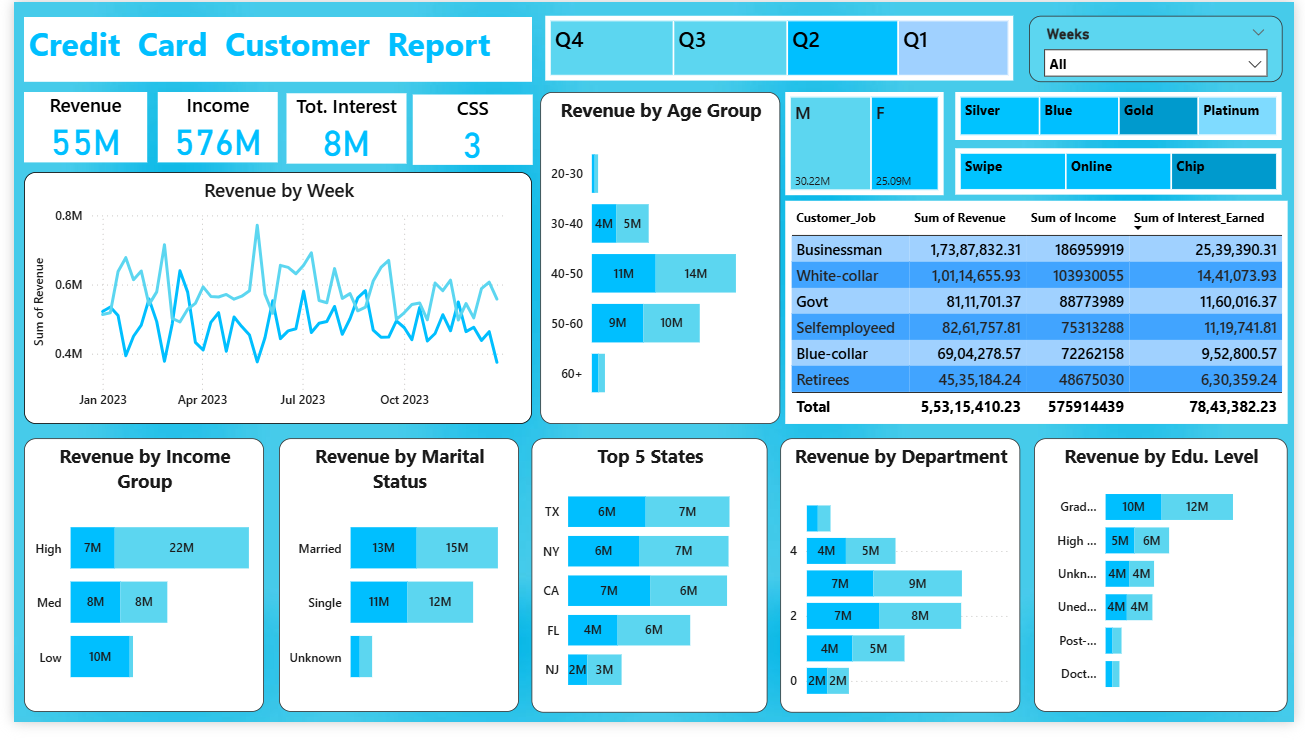

The page's visual inventory and layout, read from the dashboard file:
{"tool":"powerbi","page":{"name":"Page 3","canvas":[1280,720],"ordinal":2},"visuals":[{"type":"textbox","box":[10,15,508.3,65],"z":0},{"type":"barChart","title":" Revenue by Income Group","fields":{"Y":["Sum(ccdb cc_detail.Revenue)"],"Category":["ccdb cust_detail.income group"],"Series":["ccdb cust_detail.Gender"]},"box":[10,436.7,240,273.3],"z":1000},{"type":"tableEx","fields":{"Values":["ccdb cust_detail.Customer_Job","Sum(ccdb cc_detail.Revenue)","Sum(ccdb cust_detail.Income)","Sum(ccdb cc_detail.Interest_Earned)"]},"box":[771.7,198.3,502,223.3],"z":2000},{"type":"card","title":"Tot. Interest ","fields":{"Values":["Sum(ccdb cc_detail.Interest_Earned)"]},"box":[272.9,91.4,120,70],"z":3000},{"type":"card","title":"Revenue","fields":{"Values":["Sum(ccdb cc_detail.Revenue)"]},"box":[10,90,122.9,70],"z":4000},{"type":"card","title":"Income","fields":{"Values":["Sum(ccdb cust_detail.Income)"]},"box":[144.3,90,120,70],"z":5000},{"type":"card","title":"CSS","fields":{"Values":["Avg(ccdb cust_detail.Cust_Satisfaction_Score)"]},"box":[398.6,92.9,120,70],"z":6000},{"type":"slicer","fields":{"Values":["ccdb cc_detail.Week_Start_Date"]},"box":[1015,13.3,253.3,66.7],"z":7000},{"type":"treemap","fields":{"Group":["ccdb cc_detail.Qtr"],"Values":["Avg(ccdb cc_detail.Client_Num)"]},"box":[531.7,13.3,468.3,65],"z":8000},{"type":"treemap","fields":{"Group":["ccdb cc_detail.Card_Category"],"Values":["Avg(ccdb cc_detail.Client_Num)"]},"box":[941.7,90,326.7,48.3],"z":9000},{"type":"lineChart","title":"Revenue by Week","fields":{"Y":["Sum(ccdb cc_detail.Revenue)"],"Series":["ccdb cust_detail.Gender"],"Category":["ccdb cc_detail.Week_Start_Date.Variation.Date Hierarchy.Year","ccdb cc_detail.Week_Start_Date.Variation.Date Hierarchy.Month","ccdb cc_detail.Week_Start_Date.Variation.Date Hierarchy.Day"]},"box":[10,170,508.3,251.7],"z":10000},{"type":"treemap","fields":{"Group":["ccdb cust_detail.Gender"],"Values":["Sum(ccdb cc_detail.Revenue)"]},"box":[771.7,90,158.3,103.3],"z":11000},{"type":"barChart","title":" Revenue by Age Group","fields":{"Y":["Sum(ccdb cc_detail.Revenue)"],"Category":["ccdb cust_detail.age group"],"Series":["ccdb cust_detail.Gender"]},"box":[526,90,240,332],"z":12000},{"type":"barChart","title":" Revenue by Department ","fields":{"Y":["Sum(ccdb cc_detail.Revenue)"],"Category":["ccdb cust_detail.Dependent_Count"],"Series":["ccdb cust_detail.Gender"]},"box":[766,436,240,274],"z":13000},{"type":"barChart","title":" Revenue by Edu. Level","fields":{"Y":["Sum(ccdb cc_detail.Revenue)"],"Category":["ccdb cust_detail.Education_Level"],"Series":["ccdb cust_detail.Gender"]},"box":[1020,436.7,253.3,273.3],"z":14000},{"type":"barChart","title":"Top 5 States","fields":{"Y":["Sum(ccdb cc_detail.Revenue)"],"Category":["ccdb cust_detail.State_cd"],"Series":["ccdb cust_detail.Gender"]},"box":[518,436,236,274],"z":15000},{"type":"barChart","title":" Revenue by Marital Status","fields":{"Y":["Sum(ccdb cc_detail.Revenue)"],"Category":["ccdb cust_detail.Marital_Status"],"Series":["ccdb cust_detail.Gender"]},"box":[265,436.7,240,273.3],"z":16000},{"type":"treemap","fields":{"Group":["ccdb cc_detail.Use_Chip"],"Values":["Avg(ccdb cc_detail.Client_Num)"]},"box":[941.7,146.7,326.7,46.7],"z":17000}]}

Visuals, with their boxes in screenshot pixels (x1, y1, x2, y2), scaled from the page's 1280x720 canvas onto the 1305x742 screenshot:
textbox: [10, 15, 528, 82]
" Revenue by Income Group" barChart: [10, 450, 255, 732]
tableEx - ccdb cust_detail.Customer_Job x Sum(ccdb cc_detail.Revenue): [787, 204, 1299, 434]
"Tot. Interest " card: [278, 94, 401, 166]
"Revenue" card: [10, 93, 135, 165]
"Income" card: [147, 93, 269, 165]
"CSS" card: [406, 96, 529, 168]
slicer - ccdb cc_detail.Week_Start_Date: [1035, 14, 1293, 82]
treemap - ccdb cc_detail.Qtr x Avg(ccdb cc_detail.Client_Num): [542, 14, 1020, 81]
treemap - ccdb cc_detail.Card_Category x Avg(ccdb cc_detail.Client_Num): [960, 93, 1293, 143]
"Revenue by Week" lineChart: [10, 175, 528, 435]
treemap - ccdb cust_detail.Gender x Sum(ccdb cc_detail.Revenue): [787, 93, 948, 199]
" Revenue by Age Group" barChart: [536, 93, 781, 435]
" Revenue by Department " barChart: [781, 449, 1026, 732]
" Revenue by Edu. Level" barChart: [1040, 450, 1298, 732]
"Top 5 States" barChart: [528, 449, 769, 732]
" Revenue by Marital Status" barChart: [270, 450, 515, 732]
treemap - ccdb cc_detail.Use_Chip x Avg(ccdb cc_detail.Client_Num): [960, 151, 1293, 199]
